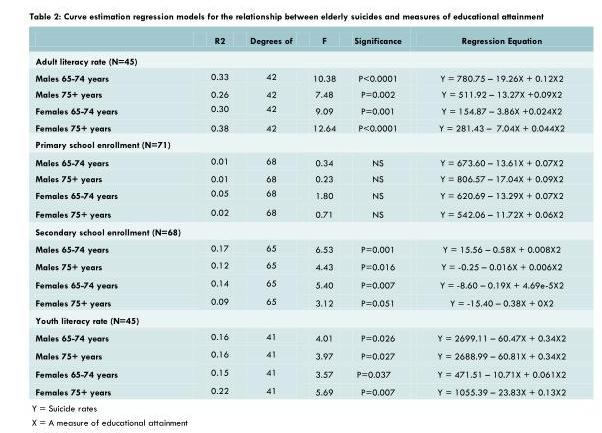table: (34, 34, 565, 396)
table column: (34, 34, 194, 396), (418, 34, 565, 396), (344, 34, 418, 396), (238, 34, 301, 396), (194, 34, 238, 396), (301, 34, 344, 396)
table column header: (34, 34, 565, 50)
table projected row header: (34, 50, 565, 68), (34, 135, 565, 152), (34, 222, 565, 239), (34, 311, 565, 328)
table row: (34, 100, 565, 119), (34, 203, 565, 222), (34, 292, 565, 311), (34, 50, 565, 68), (34, 152, 565, 170), (34, 185, 565, 203), (34, 256, 565, 274), (34, 274, 565, 292), (34, 345, 565, 363), (34, 363, 565, 381), (34, 68, 565, 85), (34, 135, 565, 152), (34, 222, 565, 239), (34, 239, 565, 256), (34, 311, 565, 328), (34, 328, 565, 345), (34, 34, 565, 50), (34, 119, 565, 135), (34, 85, 565, 100), (34, 170, 565, 185), (34, 381, 565, 396)
